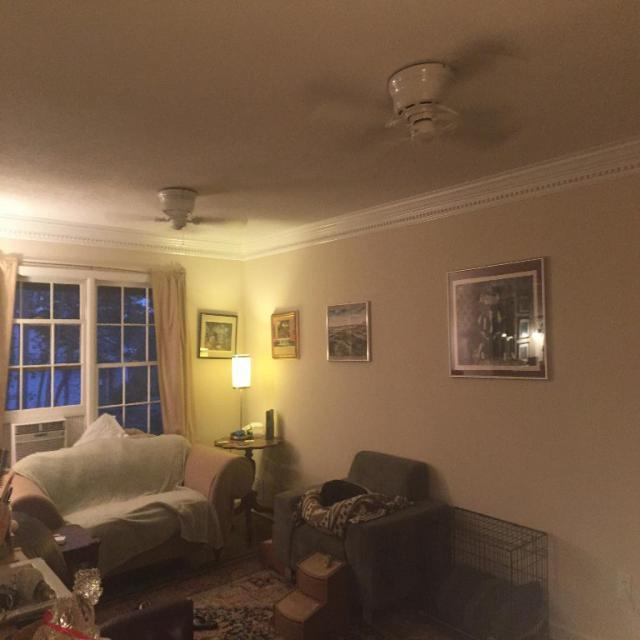fan_on: (307, 35, 527, 169), (100, 179, 258, 236)
